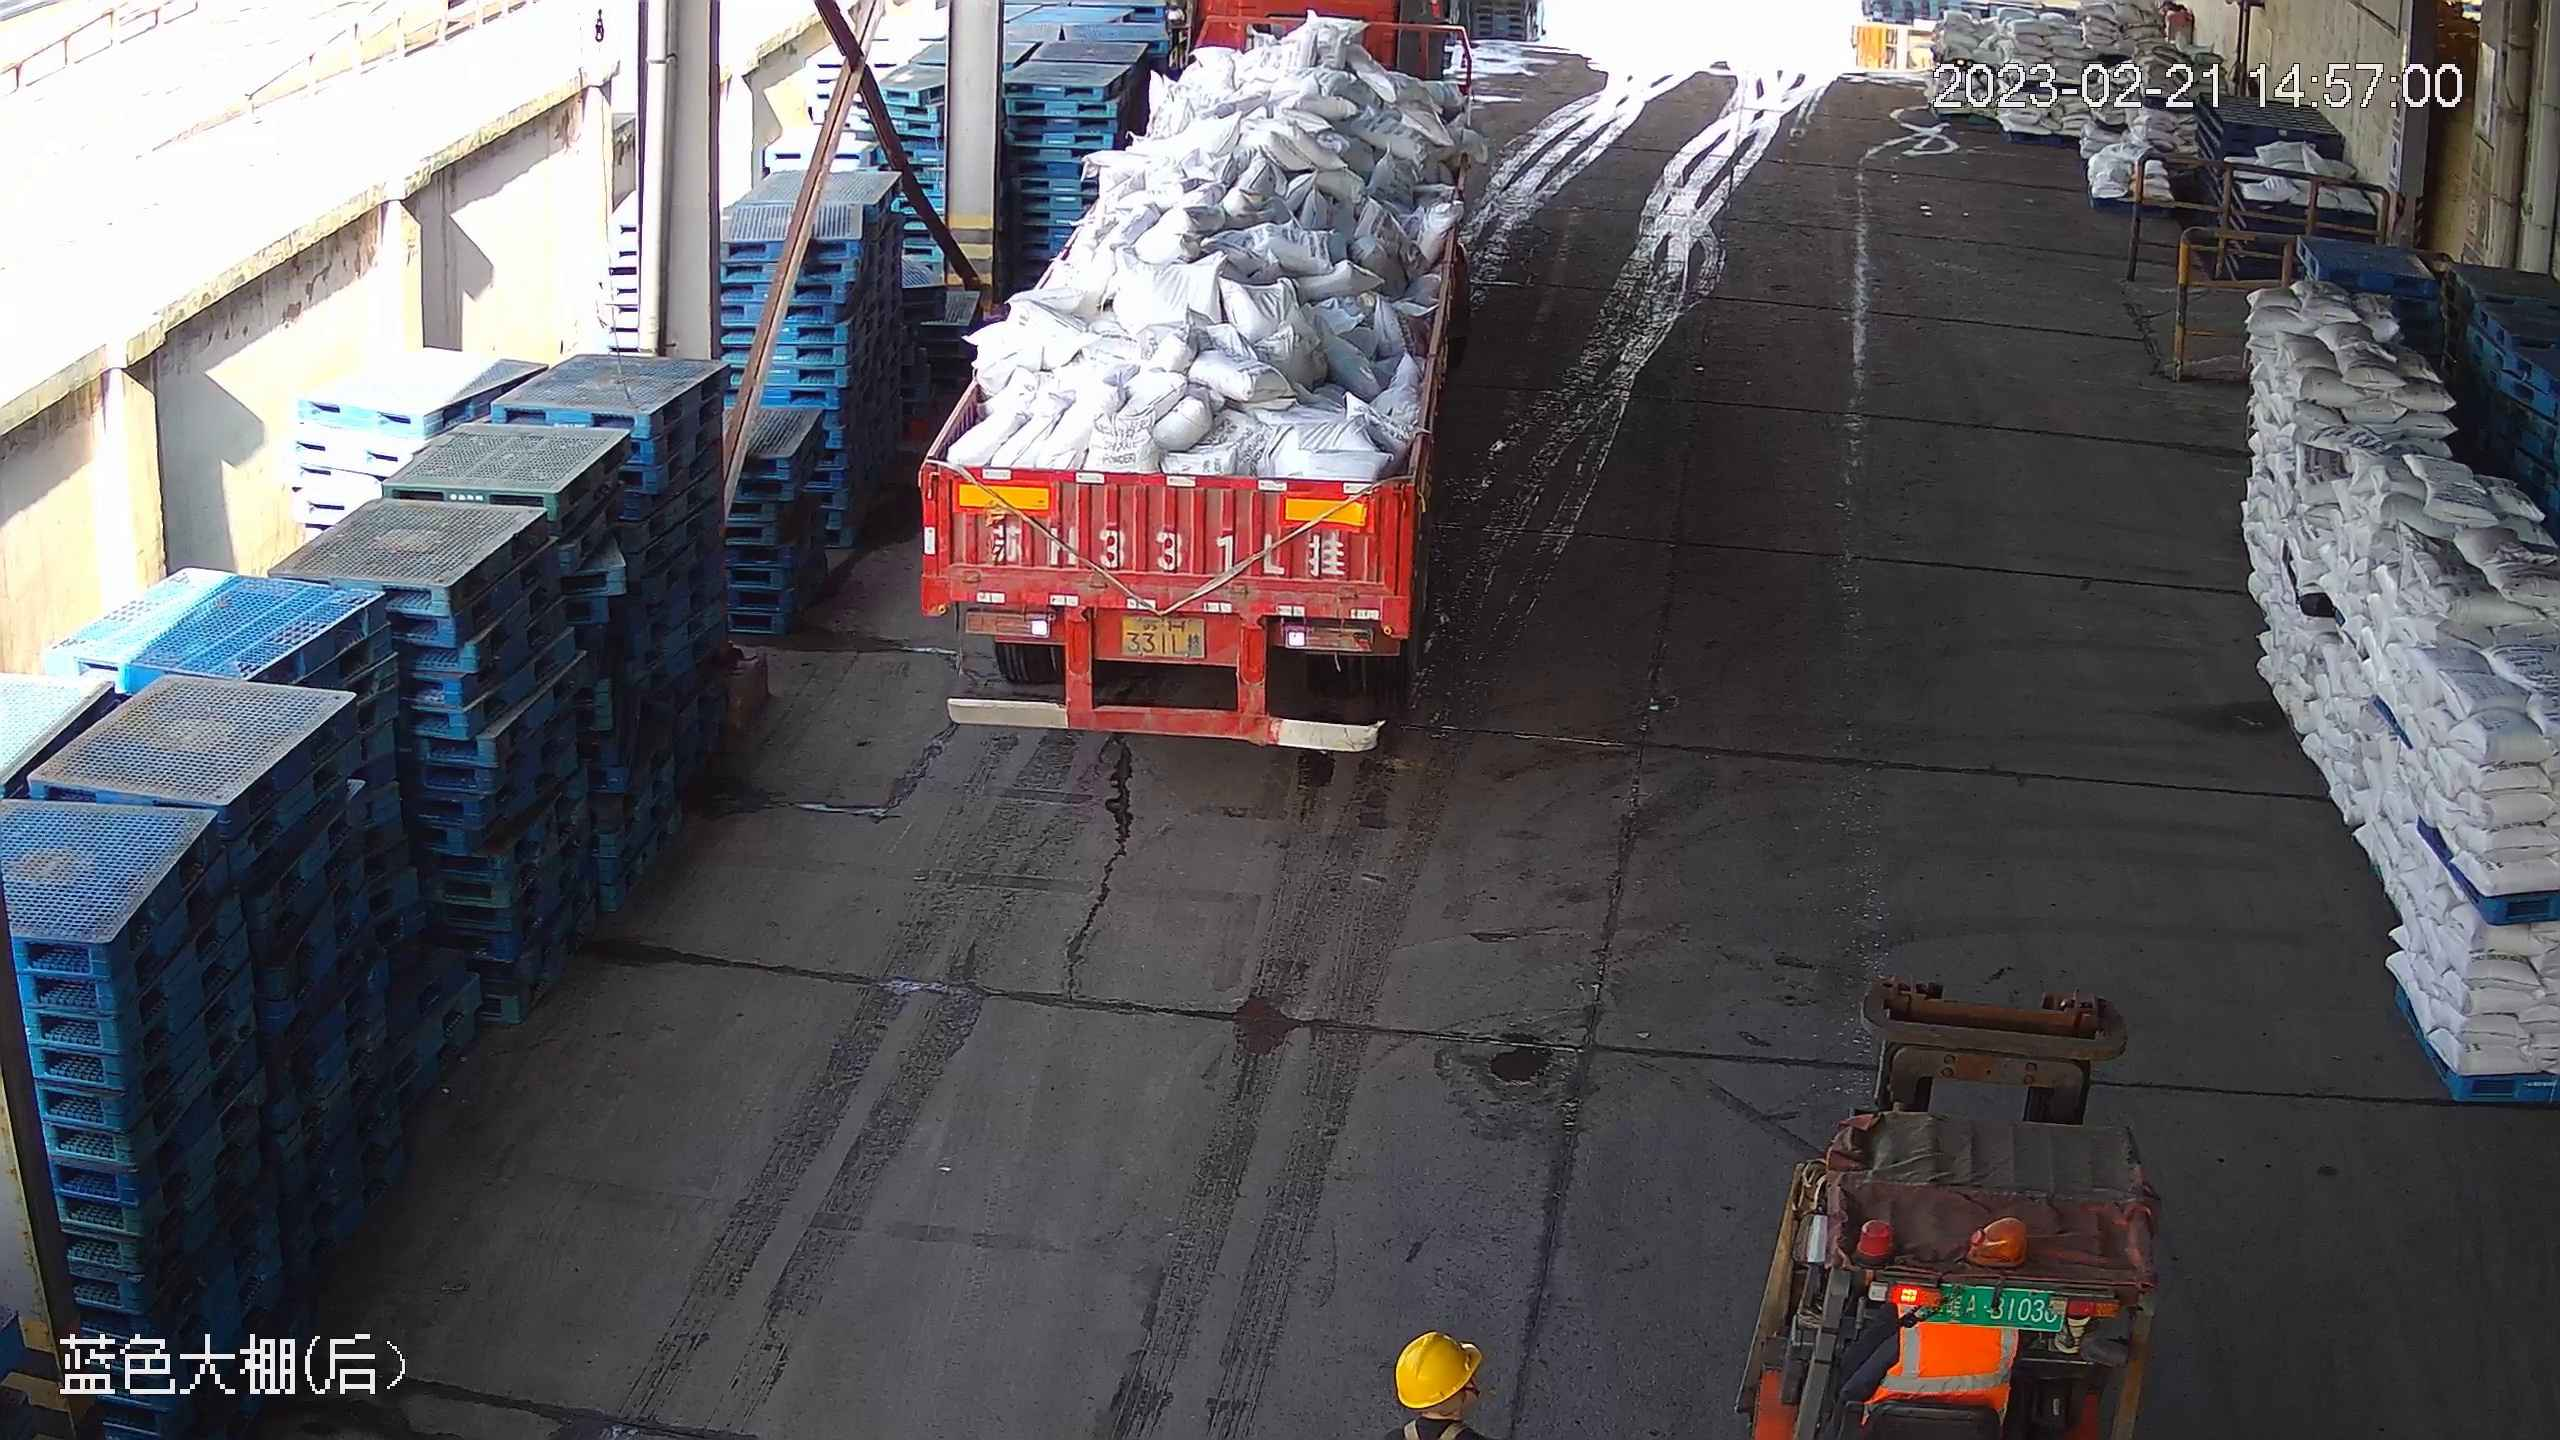helmet: (1393, 1331, 1486, 1408)
truck: (900, 2, 1472, 749)
